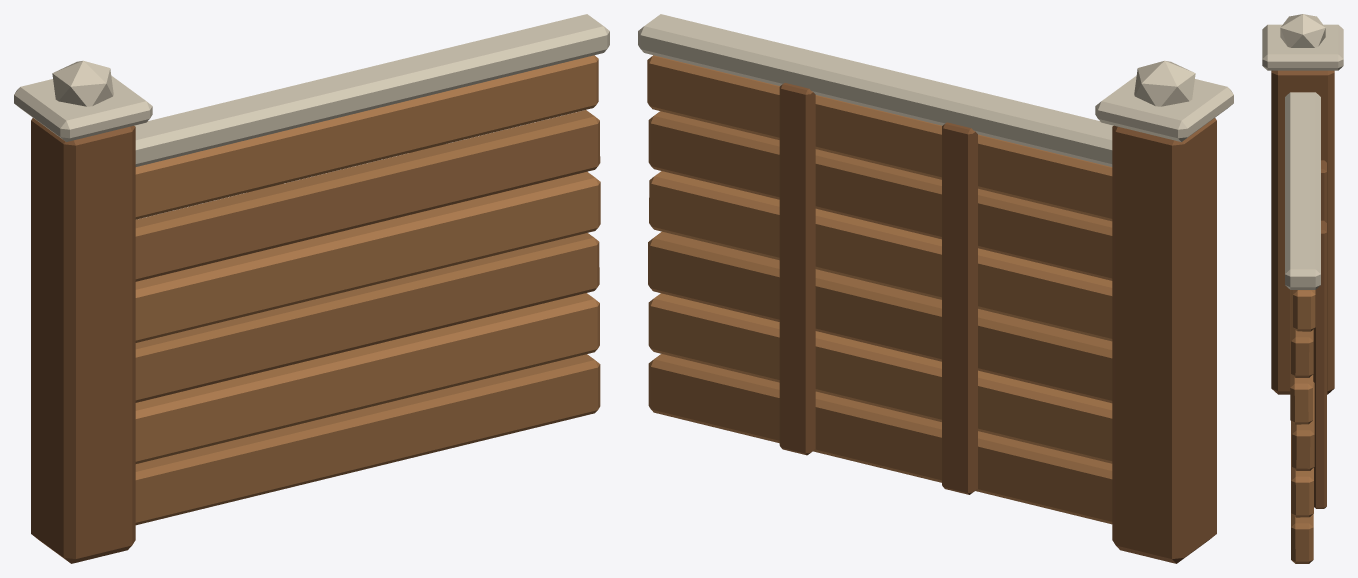
File: phoenix_fence_segment.fbx
3 renders of one model, left to right at view 1: azimuth 30°, elevation 25°; view 2: azimuth 150°, elevation 25°; view 3: azimuth 270°, elevation 25°, orthographic. The views are drawn at different scales.
Parts seen in each view (by area): view 1: phoenix_fence_segment; view 2: phoenix_fence_segment; view 3: phoenix_fence_segment.
Part boxes in pixels (box(x1,y1,x2,y2)): phoenix_fence_segment: box(14, 14, 609, 563); phoenix_fence_segment: box(638, 14, 1233, 563); phoenix_fence_segment: box(1262, 14, 1343, 563).
Size of the model in its own units: 11 by 9.02 by 1.8.
